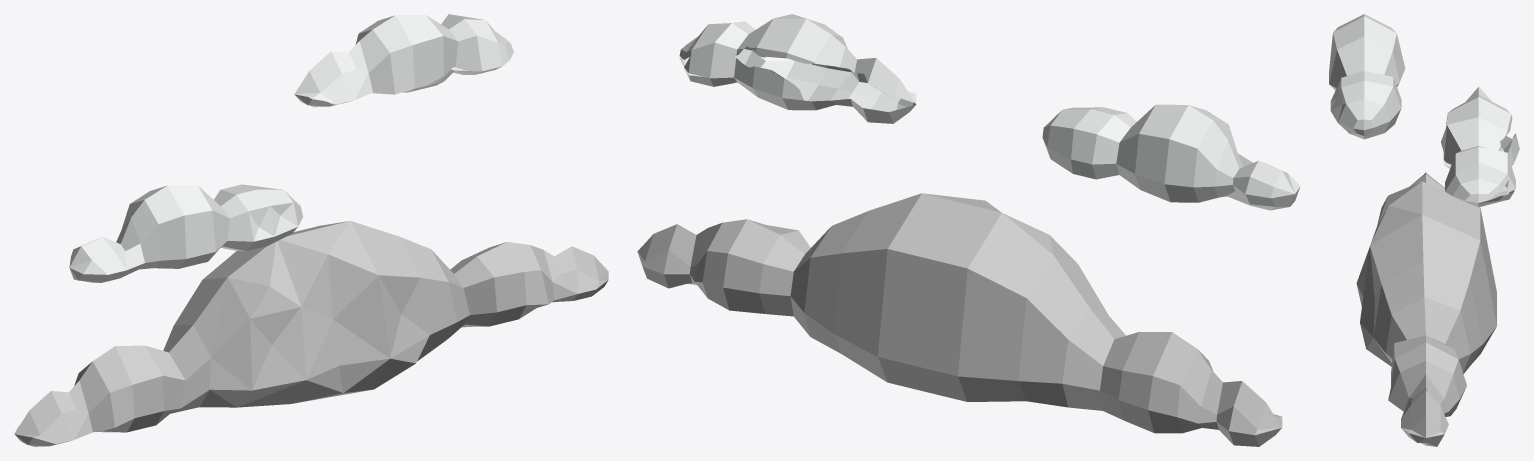
File: clouds.obj
3 renders of one model, left to right at view 1: azimuth 30°, elevation 25°; view 2: azimuth 150°, elevation 25°; view 3: azimuth 270°, elevation 25°, orthographic. The views are drawn at different scales.
Visible parts, largest first — view 1: Plane.002, Plane, Plane.001; view 2: Plane.002, Plane, Plane.001; view 3: Plane.002, Plane, Plane.001.
Part boxes in pixels (left/top/right/bottom): Plane.002: left=14, top=221, right=608, bottom=446; Plane: left=69, top=184, right=302, bottom=282; Plane.001: left=294, top=14, right=513, bottom=107; Plane.002: left=637, top=193, right=1282, bottom=446; Plane: left=1042, top=104, right=1300, bottom=210; Plane.001: left=679, top=14, right=916, bottom=123; Plane.002: left=1356, top=172, right=1496, bottom=446; Plane: left=1329, top=14, right=1405, bottom=139; Plane.001: left=1441, top=86, right=1519, bottom=207.
Bounding box in the file's own units: 8.45 × 4.4 × 2.55.
